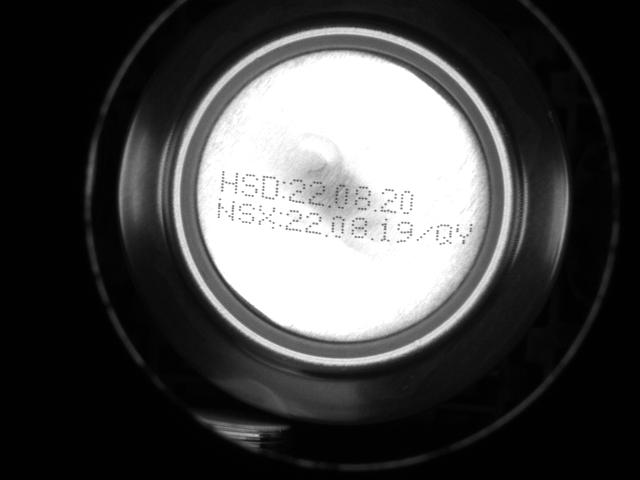.: (327, 193, 333, 208), (323, 224, 329, 239), (371, 197, 377, 212), (369, 228, 375, 243)
/: (414, 222, 434, 246)
0: (334, 181, 350, 211), (329, 210, 345, 240), (398, 188, 414, 218)
1: (379, 216, 392, 245)
2: (288, 175, 307, 205), (284, 207, 303, 237), (307, 177, 326, 207), (303, 208, 322, 238), (378, 186, 397, 216)
8: (353, 183, 372, 212), (350, 213, 369, 242)
9: (394, 218, 415, 247)
:: (280, 176, 288, 201), (277, 206, 285, 231)
D: (260, 173, 279, 200)
H: (217, 165, 241, 196)
N: (216, 196, 236, 223)
Q: (434, 219, 454, 249)
S: (239, 171, 259, 199), (236, 200, 256, 228)
X: (256, 201, 277, 231)
Y: (455, 220, 475, 249)
